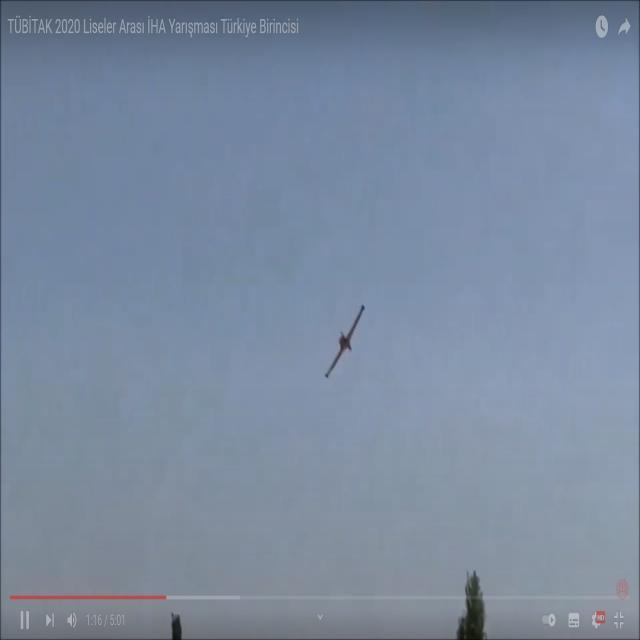iha: (328, 330, 390, 367)
